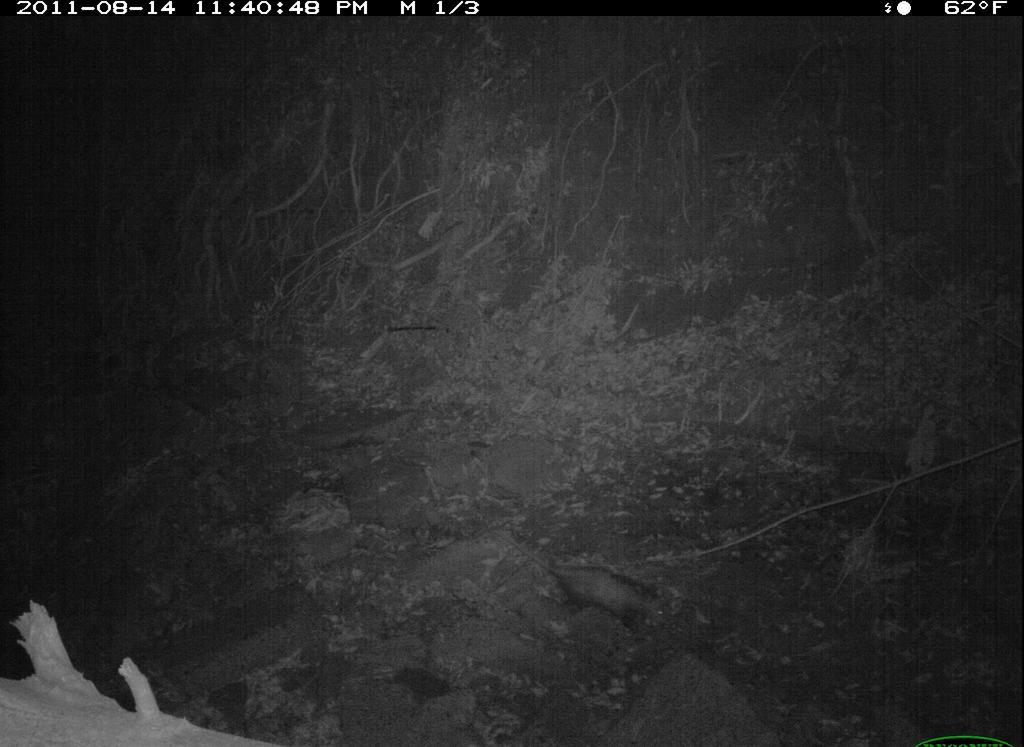opossum: (500, 539, 672, 632)
